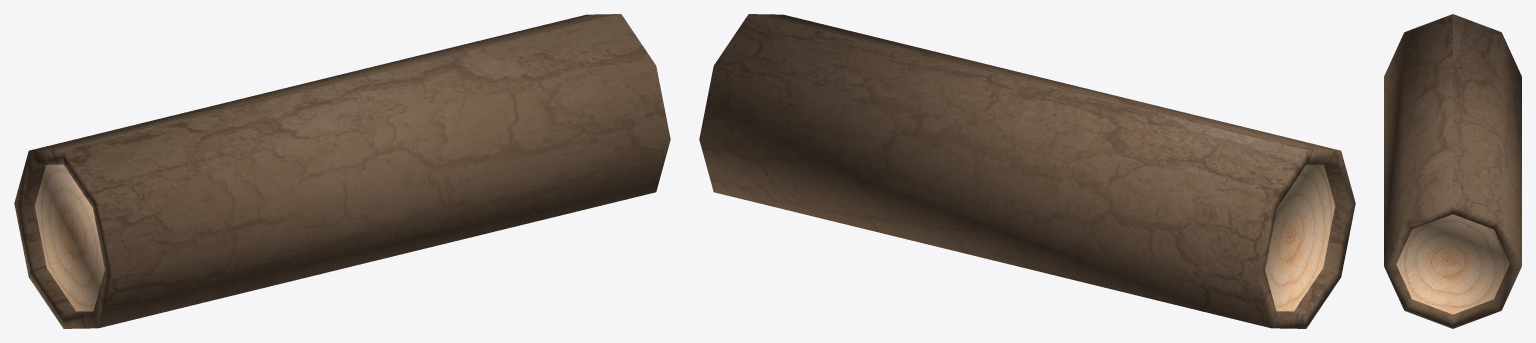
The model's file is Log.FBX.
3 views of the same model, side by side, from view 1: azimuth 30°, elevation 25°; view 2: azimuth 150°, elevation 25°; view 3: azimuth 270°, elevation 25° (orthographic). The views are drawn at different scales.
Parts seen in each view (by area): view 1: Cylinder001; view 2: Cylinder001; view 3: Cylinder001.
Part boxes in pixels (<box>): Cylinder001: <box>14,14,670,328</box>; Cylinder001: <box>699,14,1355,328</box>; Cylinder001: <box>1384,14,1521,328</box>.
Bounding box in the file's own units: 169 × 51.78 × 51.78.
1 material, 1 textured.
